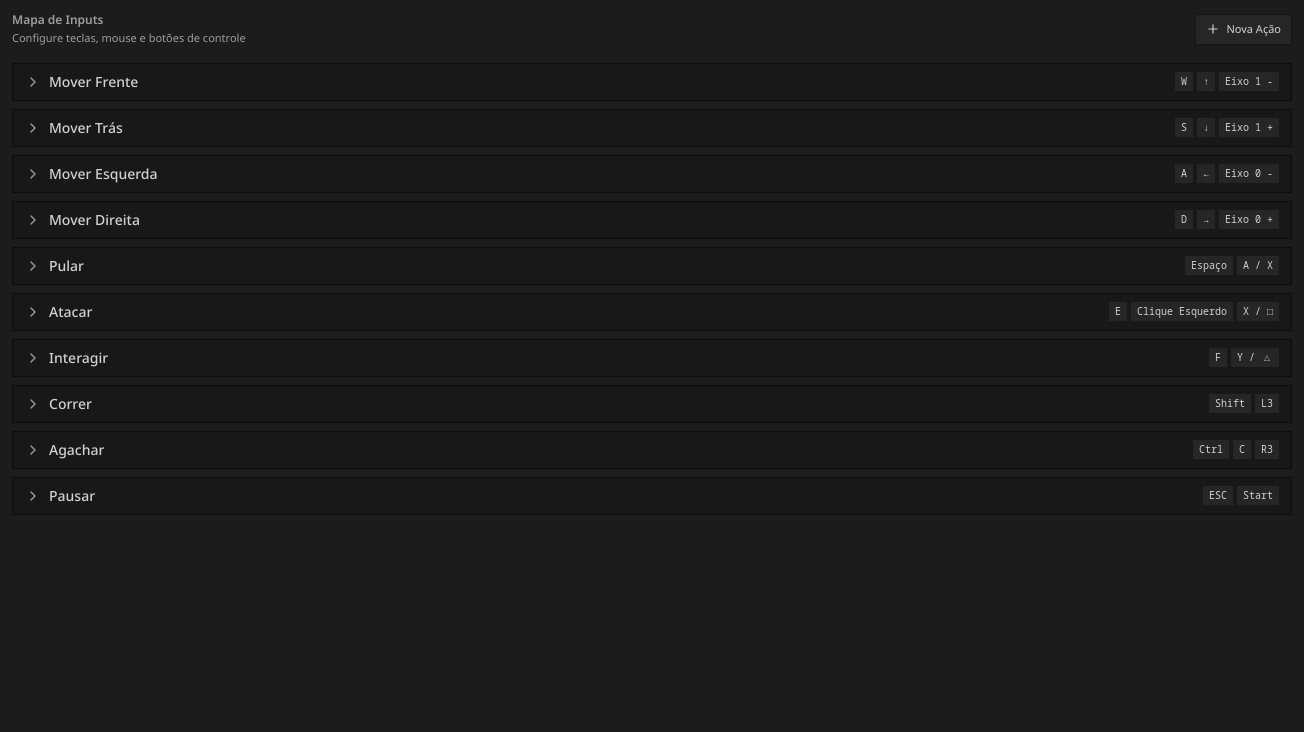
InputMapPanel desktop-only controls › does not expose mobile touch bindings in the editor UI
The width and height of the screenshot is (1304, 732).
Click the text "Mover Frente": (94, 81) x1=49 y1=72 x2=138 y2=90
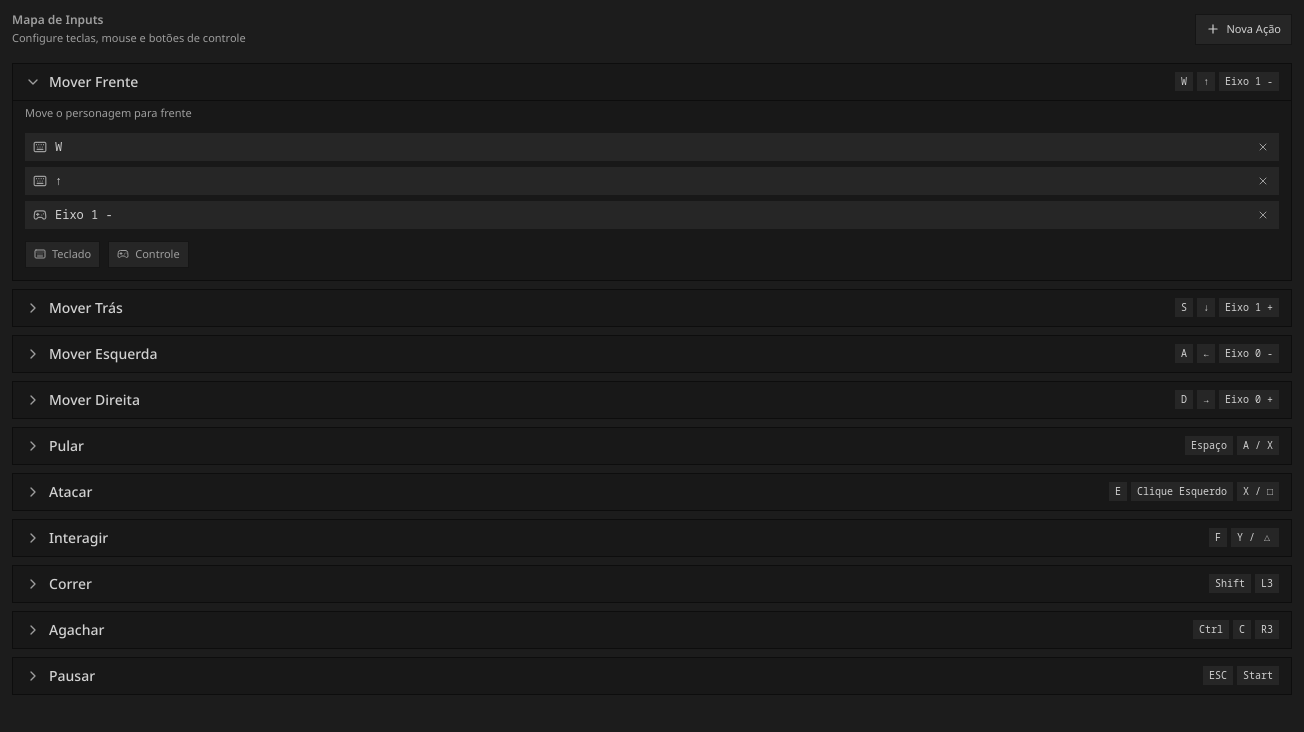
expect the button "Teclado" is shown: met, box x1=25 y1=241 x2=100 y2=268
expect the button "Controle" is shown: met, box x1=108 y1=241 x2=189 y2=268
